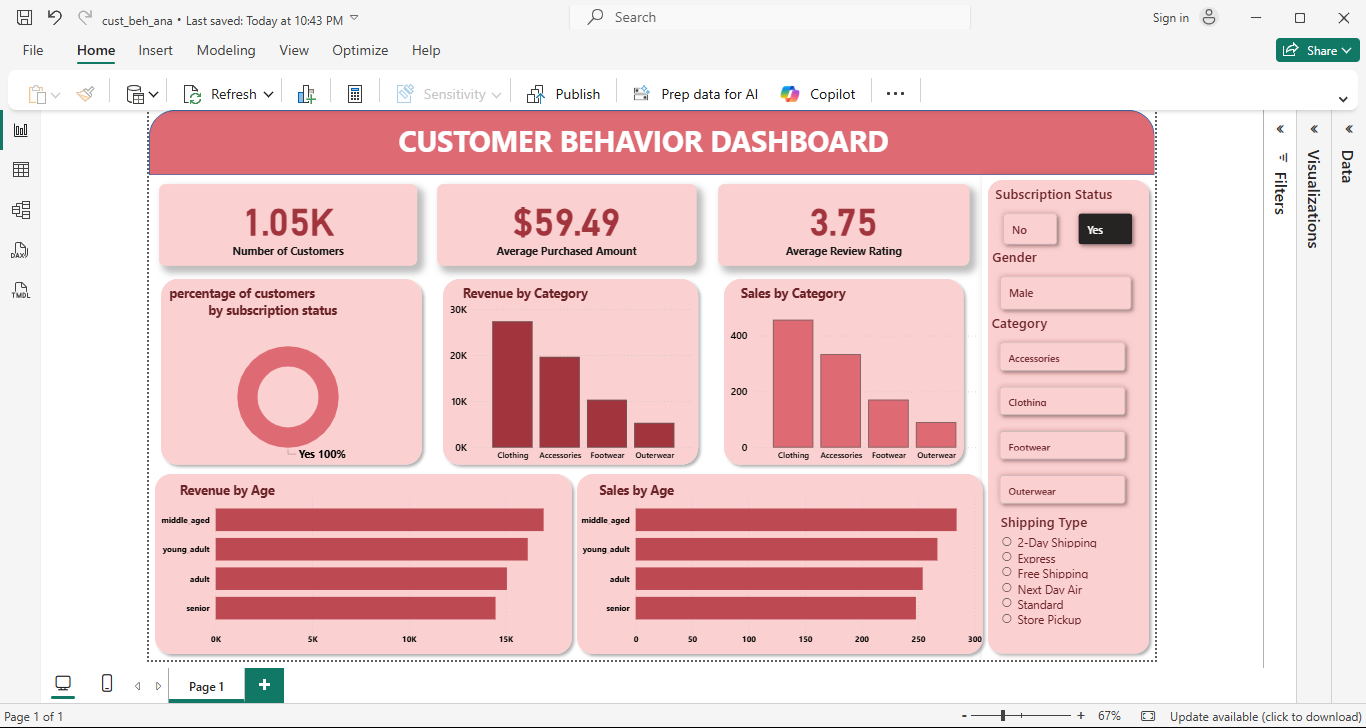

This screenshot's page, from the dashboard's own definition file:
{"tool":"powerbi","page":{"name":"Page 1","canvas":[1500,820],"ordinal":0},"visuals":[{"type":"card","fields":{"Values":["shopping_analysis.Number of Customers"]},"box":[15.1,110.4,384.9,122.2],"z":0},{"type":"card","fields":{"Values":["shopping_analysis.Average Purchased Amount"]},"box":[430.1,110.4,386.6,122.2],"z":1000},{"type":"card","fields":{"Values":["shopping_analysis.Average Review Rating"]},"box":[848.4,110.4,374.9,122.2],"z":2000},{"type":"shape","box":[0,0,1499.4,97.1],"z":3000},{"type":"textbox","box":[299.6,11.7,875.2,98.7],"z":4000},{"type":"shape","box":[8.4,242.7,406.7,294.5],"z":5000},{"type":"shape","box":[848.4,242.7,374.9,294.5],"z":6000},{"type":"donutChart","title":"percentage of customer by subscription status","fields":{"Category":["shopping_analysis.subscription_status"],"Y":["CountNonNull(shopping_analysis.customer_id)"]},"box":[56.9,319.6,301.2,217.6],"z":7000},{"type":"textbox","box":[25,254.2,313,60.2],"z":8000},{"type":"shape","box":[430.1,242.7,398.3,294.5],"z":9000},{"type":"clusteredColumnChart","fields":{"Category":["shopping_analysis.category"],"Y":["Sum(shopping_analysis.purchase_amount)"]},"box":[443.5,279.5,373.2,254.4],"z":10000},{"type":"textbox","box":[446.8,254.4,289.5,48.5],"z":11000},{"type":"clusteredColumnChart","fields":{"Category":["shopping_analysis.category"],"Y":["CountNonNull(shopping_analysis.customer_id)"]},"box":[861.8,279.5,374.9,254.4],"z":12000},{"type":"textbox","box":[861.8,254.4,249.3,48.5],"z":13000},{"type":"shape","title":"mount b","box":[1242,96,258,724],"z":14000},{"type":"advancedSlicerVisual","title":"Subscription Status","fields":{"Values":["shopping_analysis.subscription_status"]},"box":[1256.8,110.4,227.6,107.1],"z":15000},{"type":"advancedSlicerVisual","title":"Gender","fields":{"Values":["shopping_analysis.gender"]},"box":[1251.8,204.2,229.3,110.4],"z":16000},{"type":"advancedSlicerVisual","title":"Category","fields":{"Values":["shopping_analysis.category"]},"box":[1251.8,302.9,217.6,302.9],"z":17000},{"type":"listSlicer","title":"Shipping Type","fields":{"Values":["shopping_analysis.shipping_type"]},"box":[1265.1,597.4,204.2,222.6],"z":18000},{"type":"shape","box":[0,533.8,639.3,286.2],"z":19000},{"type":"clusteredBarChart","title":"   Revenue by Age Group","fields":{"Category":["shopping_analysis.age_group"],"Y":["Sum(shopping_analysis.purchase_amount)"]},"box":[13.4,564,615.8,241],"z":20000},{"type":"textbox","box":[25.1,548.9,274.4,48.5],"z":20001},{"type":"shape","box":[629.2,533.8,622.5,286.2],"z":20002},{"type":"clusteredBarChart","title":"   Revenue by Age Group","fields":{"Category":["shopping_analysis.age_group"],"Y":["CountNonNull(shopping_analysis.customer_id)"]},"box":[639.3,564,602.4,241],"z":20003},{"type":"textbox","box":[666,548.9,182.4,48.5],"z":20004}]}

Visuals, with their boxes on the page's 1500x820 design canvas (x1, y1, x2, y2). These are canvas units, not pixel positions in the 1366x728 screenshot, which may show the page scaled, cropped or inside an application window:
card - shopping_analysis.Number of Customers: Rect(15, 110, 400, 233)
card - shopping_analysis.Average Purchased Amount: Rect(430, 110, 817, 233)
card - shopping_analysis.Average Review Rating: Rect(848, 110, 1223, 233)
shape: Rect(0, 0, 1499, 97)
textbox: Rect(300, 12, 1175, 110)
shape: Rect(8, 243, 415, 537)
shape: Rect(848, 243, 1223, 537)
"percentage of customer by subscription status" donutChart: Rect(57, 320, 358, 537)
textbox: Rect(25, 254, 338, 314)
shape: Rect(430, 243, 828, 537)
clusteredColumnChart - shopping_analysis.category x Sum(shopping_analysis.purchase_amount): Rect(444, 280, 817, 534)
textbox: Rect(447, 254, 736, 303)
clusteredColumnChart - shopping_analysis.category x CountNonNull(shopping_analysis.customer_id): Rect(862, 280, 1237, 534)
textbox: Rect(862, 254, 1111, 303)
"mount b" shape: Rect(1242, 96, 1500, 820)
"Subscription Status" advancedSlicerVisual: Rect(1257, 110, 1484, 218)
"Gender" advancedSlicerVisual: Rect(1252, 204, 1481, 315)
"Category" advancedSlicerVisual: Rect(1252, 303, 1469, 606)
"Shipping Type" listSlicer: Rect(1265, 597, 1469, 820)
shape: Rect(0, 534, 639, 820)
"   Revenue by Age Group" clusteredBarChart: Rect(13, 564, 629, 805)
textbox: Rect(25, 549, 300, 597)
shape: Rect(629, 534, 1252, 820)
"   Revenue by Age Group" clusteredBarChart: Rect(639, 564, 1242, 805)
textbox: Rect(666, 549, 848, 597)
